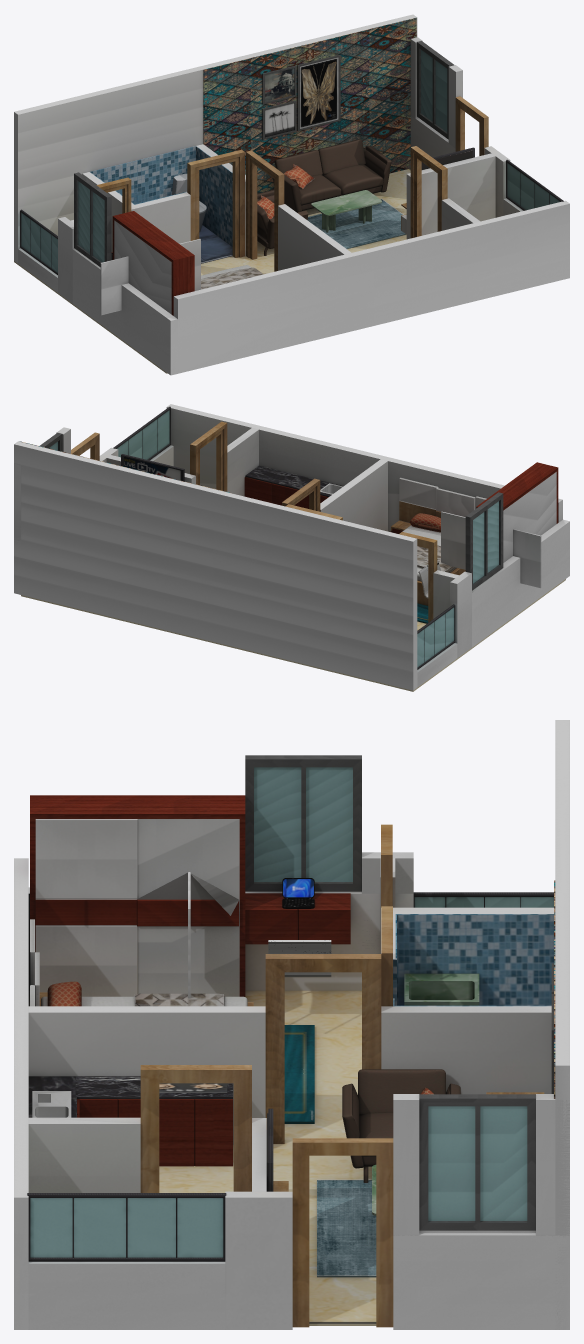
Rendered from 1bhk_flat.glb.
3 views of the same model, one above another, from view 1: azimuth 30°, elevation 25°; view 2: azimuth 150°, elevation 25°; view 3: azimuth 270°, elevation 25° (orthographic). The views are drawn at different scales.
Parts seen in each view (by area): view 1: Object010_Object010_mtl_0, Object006_Object006_mtl_0, Object003_Object003_mtl_0, Object009_Object009_mtl_0, Object005_Object005_mtl_0, Object004_Object004_mtl_0, Object012_Object012_mtl_0, Object008_Object008_mtl_0, Object011_Object011_mtl_0, Object002_Object002_mtl_0, Object001_Object001_mtl_0, Object007_Object007_mtl_0; view 2: Object002_Object002_mtl_0, Object010_Object010_mtl_0, Object004_Object004_mtl_0, Object009_Object009_mtl_0, Object011_Object011_mtl_0, Object008_Object008_mtl_0, Object007_Object007_mtl_0, Object005_Object005_mtl_0, Object012_Object012_mtl_0, Object001_Object001_mtl_0; view 3: Object009_Object009_mtl_0, Object002_Object002_mtl_0, Object008_Object008_mtl_0, Object011_Object011_mtl_0, Object004_Object004_mtl_0, Object005_Object005_mtl_0, Object003_Object003_mtl_0, Object001_Object001_mtl_0, Object012_Object012_mtl_0, Object010_Object010_mtl_0, Object007_Object007_mtl_0, Object006_Object006_mtl_0.
Part boxes in pixels (box(x1,y1,x2,y2)): Object010_Object010_mtl_0: box(71, 200, 569, 373); Object006_Object006_mtl_0: box(203, 18, 416, 193); Object003_Object003_mtl_0: box(18, 17, 455, 252); Object009_Object009_mtl_0: box(246, 146, 563, 271); Object005_Object005_mtl_0: box(90, 96, 488, 373); Object004_Object004_mtl_0: box(14, 146, 510, 375); Object012_Object012_mtl_0: box(257, 139, 474, 248); Object008_Object008_mtl_0: box(112, 41, 453, 315); Object011_Object011_mtl_0: box(20, 164, 314, 303); Object002_Object002_mtl_0: box(14, 14, 416, 315); Object001_Object001_mtl_0: box(257, 37, 472, 255); Object007_Object007_mtl_0: box(201, 100, 296, 289); Object002_Object002_mtl_0: box(14, 441, 541, 690); Object010_Object010_mtl_0: box(166, 404, 562, 618); Object004_Object004_mtl_0: box(21, 447, 569, 691); Object009_Object009_mtl_0: box(106, 406, 387, 531); Object011_Object011_mtl_0: box(320, 483, 503, 669); Object008_Object008_mtl_0: box(40, 432, 558, 562); Object007_Object007_mtl_0: box(402, 513, 465, 623); Object005_Object005_mtl_0: box(71, 432, 437, 622); Object012_Object012_mtl_0: box(121, 454, 184, 481); Object001_Object001_mtl_0: box(14, 427, 70, 540); Object009_Object009_mtl_0: box(27, 954, 381, 1329); Object002_Object002_mtl_0: box(30, 720, 569, 1329); Object008_Object008_mtl_0: box(30, 795, 535, 1230); Object011_Object011_mtl_0: box(32, 755, 553, 1166); Object004_Object004_mtl_0: box(28, 887, 413, 1329); Object005_Object005_mtl_0: box(159, 824, 553, 1327); Object003_Object003_mtl_0: box(381, 907, 569, 1329); Object001_Object001_mtl_0: box(266, 898, 569, 1236); Object012_Object012_mtl_0: box(267, 1108, 393, 1277); Object010_Object010_mtl_0: box(14, 858, 395, 1329); Object007_Object007_mtl_0: box(39, 993, 314, 1123); Object006_Object006_mtl_0: box(551, 880, 555, 1098).
Size of the model in its own units: 8.99 by 3.07 by 5.81.
12 materials, 12 textured.
